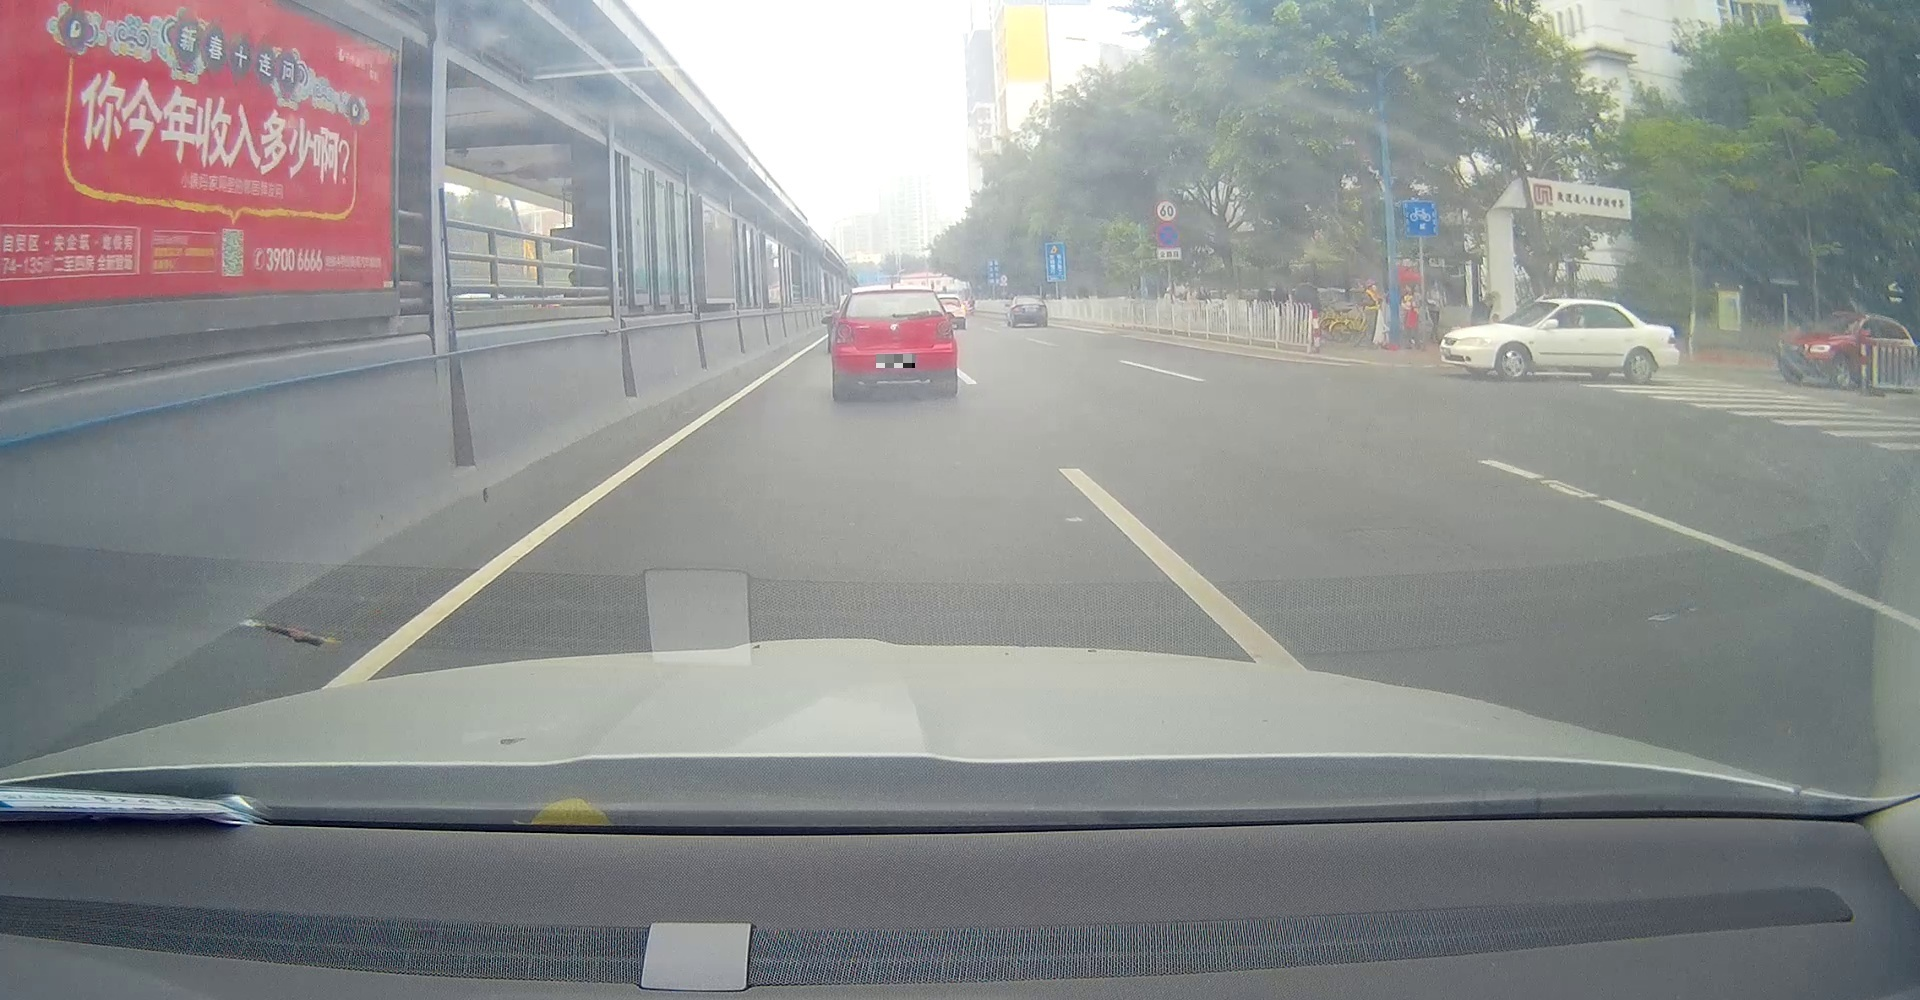L_light: (834, 322, 855, 346), (1012, 306, 1020, 312)
R_light: (935, 319, 952, 343), (1040, 305, 1048, 312)
T_light: (881, 289, 903, 294), (1023, 296, 1032, 298)
day-no: (830, 288, 957, 398), (1010, 294, 1048, 327)
plate_1: (876, 354, 916, 368)
